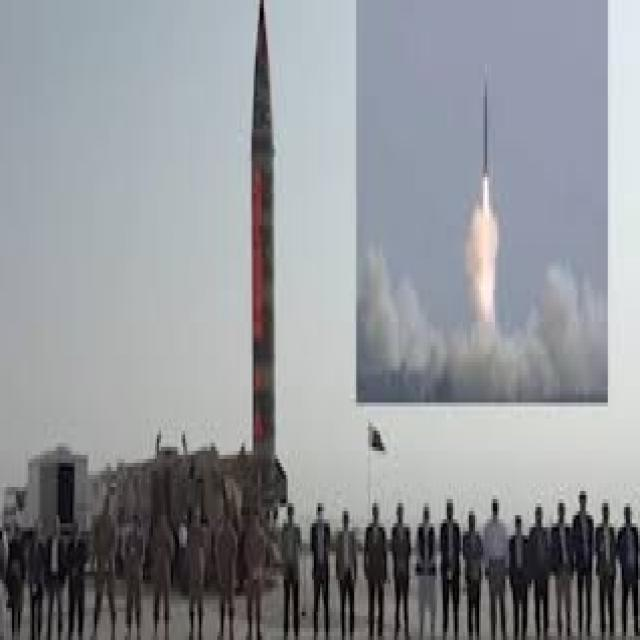Missile: (250, 2, 277, 457), (480, 65, 491, 185)
